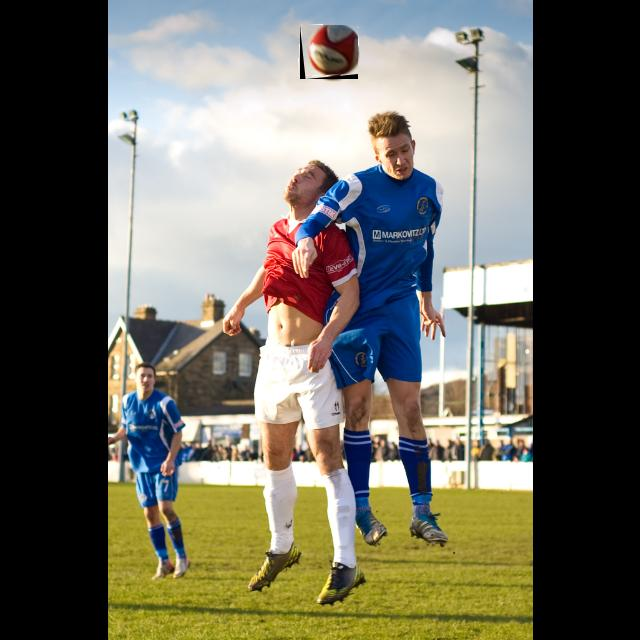Football: (300, 25, 358, 79)
